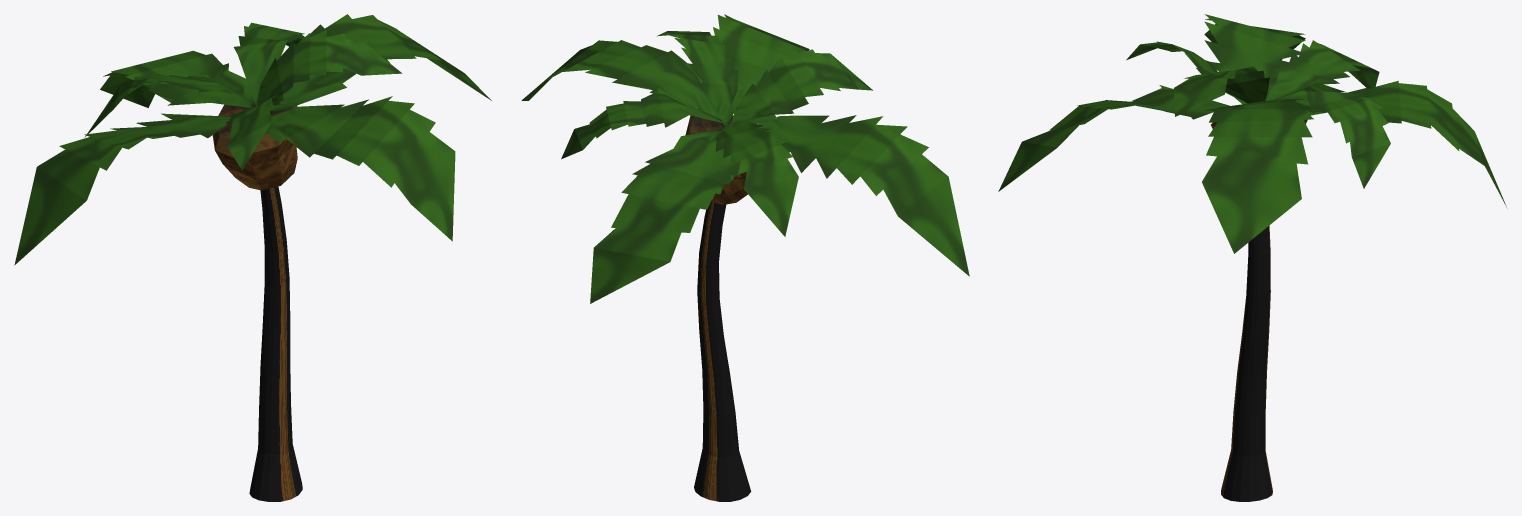
Rendered from palm1.glb.
3 renders of one model, left to right at view 1: azimuth 30°, elevation 25°; view 2: azimuth 150°, elevation 25°; view 3: azimuth 270°, elevation 25°, orthographic.
Visible parts, largest first — view 1: Leaf.003, Trunk, Leaf.001, Leaf, Leaf.002, Leaf.005, Cube, Leaf.007, Leaf.004, Leaf.006; view 2: Leaf.001, Leaf, Trunk, Leaf.002, Leaf.006, Leaf.004, Leaf.007, Leaf.003, Leaf.005, Cube; view 3: Leaf.002, Trunk, Leaf, Leaf.001, Leaf.007, Leaf.003, Leaf.006, Leaf.005, Leaf.004.
Boxes of the visible parts, x1,y1,x2,y2 form: Leaf.003: (265, 96, 455, 241); Trunk: (249, 186, 302, 501); Leaf.001: (14, 113, 231, 265); Leaf: (100, 50, 255, 108); Leaf.002: (269, 14, 491, 114); Leaf.005: (257, 30, 402, 104); Cube: (212, 104, 297, 190); Leaf.007: (233, 22, 304, 105); Leaf.004: (225, 94, 280, 170); Leaf.006: (84, 74, 252, 137); Leaf.001: (757, 115, 969, 276); Leaf: (590, 129, 740, 303); Trunk: (694, 202, 751, 501); Leaf.002: (521, 40, 721, 119); Leaf.006: (709, 120, 798, 236); Leaf.004: (731, 49, 872, 123); Leaf.007: (561, 88, 728, 159); Leaf.003: (713, 14, 809, 113); Leaf.005: (657, 31, 743, 125); Cube: (685, 115, 747, 204); Leaf.002: (1202, 99, 1313, 253); Trunk: (1221, 225, 1272, 501); Leaf: (1289, 80, 1507, 208); Leaf.001: (1204, 14, 1305, 100); Leaf.007: (1274, 82, 1390, 188); Leaf.003: (998, 85, 1229, 191); Leaf.006: (1265, 40, 1379, 100); Leaf.005: (1173, 66, 1269, 116); Leaf.004: (1126, 41, 1247, 104).
Bounding box in the file's own units: 13.81 × 12.69 × 13.04.
2 materials, 2 textured.
